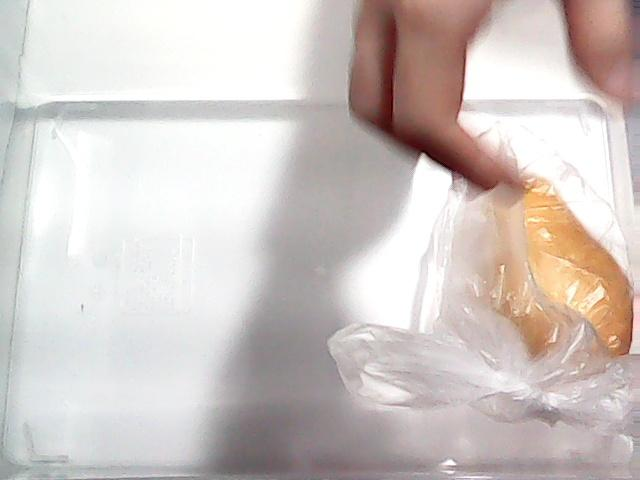mango: (438, 148, 632, 384)
